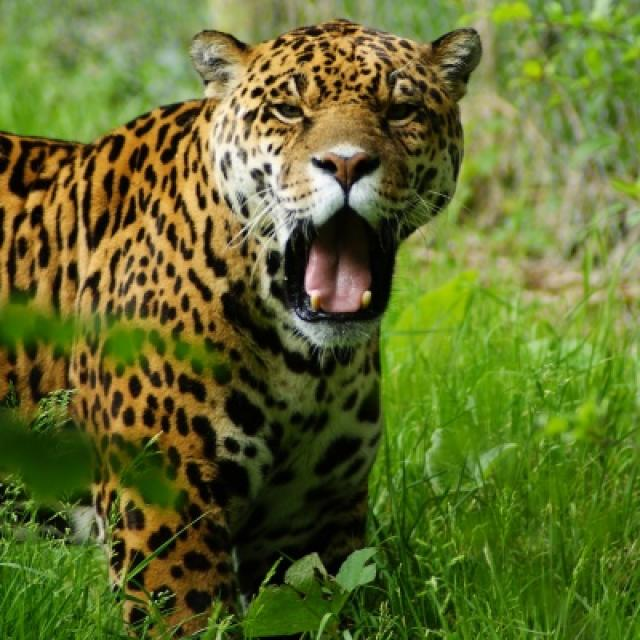Jaguar: (0, 19, 483, 638)
